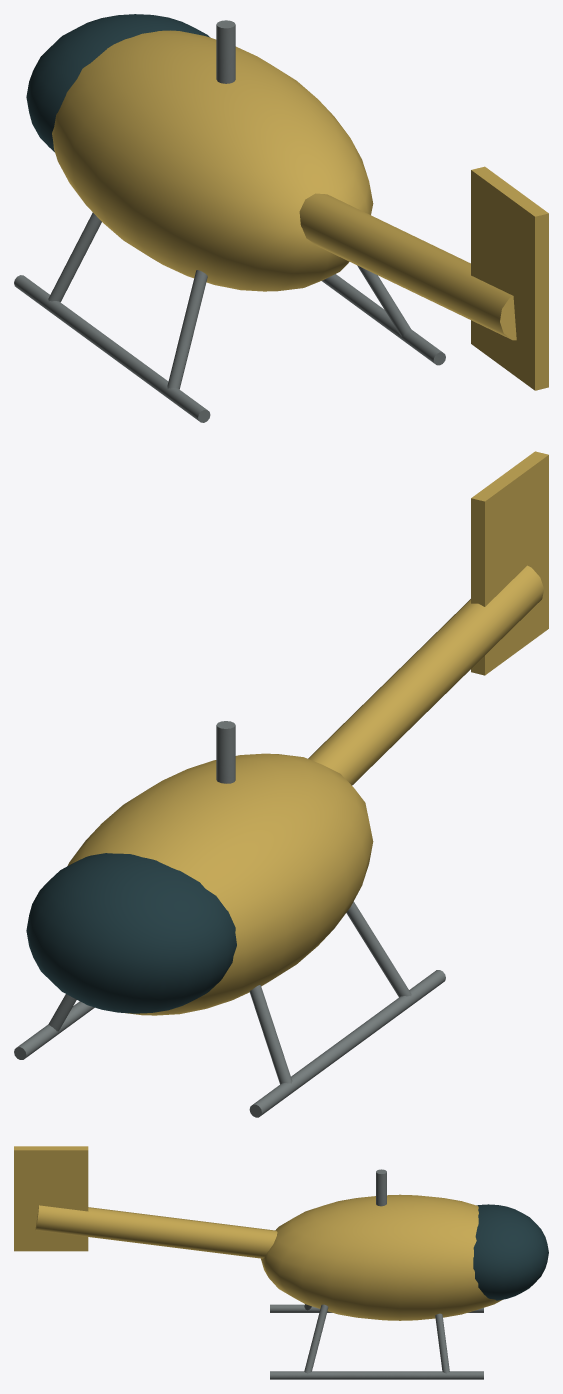
File: vehicle_helicopter.glb
3 renders of one model, top to bottom at view 1: azimuth 30°, elevation 25°; view 2: azimuth 150°, elevation 25°; view 3: azimuth 270°, elevation 25°, orthographic. The views are drawn at different scales.
Visible parts, largest first — view 1: vehicle_helicopter; view 2: vehicle_helicopter; view 3: vehicle_helicopter.
Part boxes in pixels (bbox=[...]): vehicle_helicopter: bbox=[14, 14, 548, 422]; vehicle_helicopter: bbox=[14, 451, 548, 1117]; vehicle_helicopter: bbox=[14, 1146, 548, 1379].
Bounding box in the file's own units: 1.79 × 2.34 × 5.75.
Materials: 3 (1 with a texture image).
